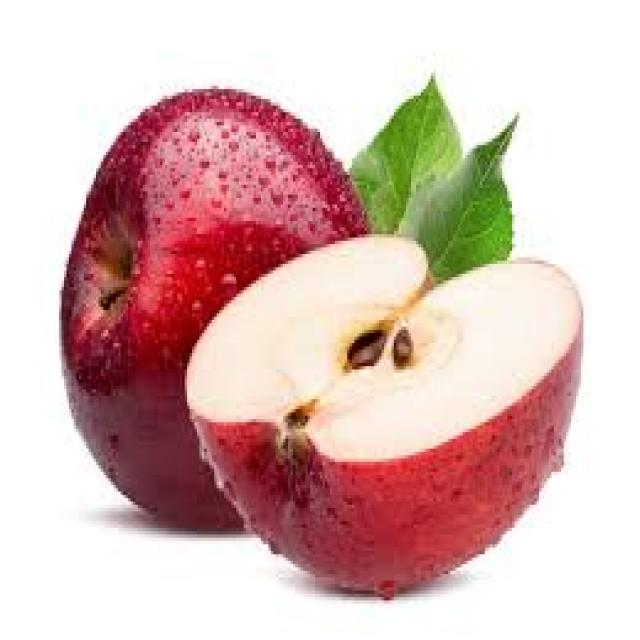apple: (54, 62, 368, 545)
